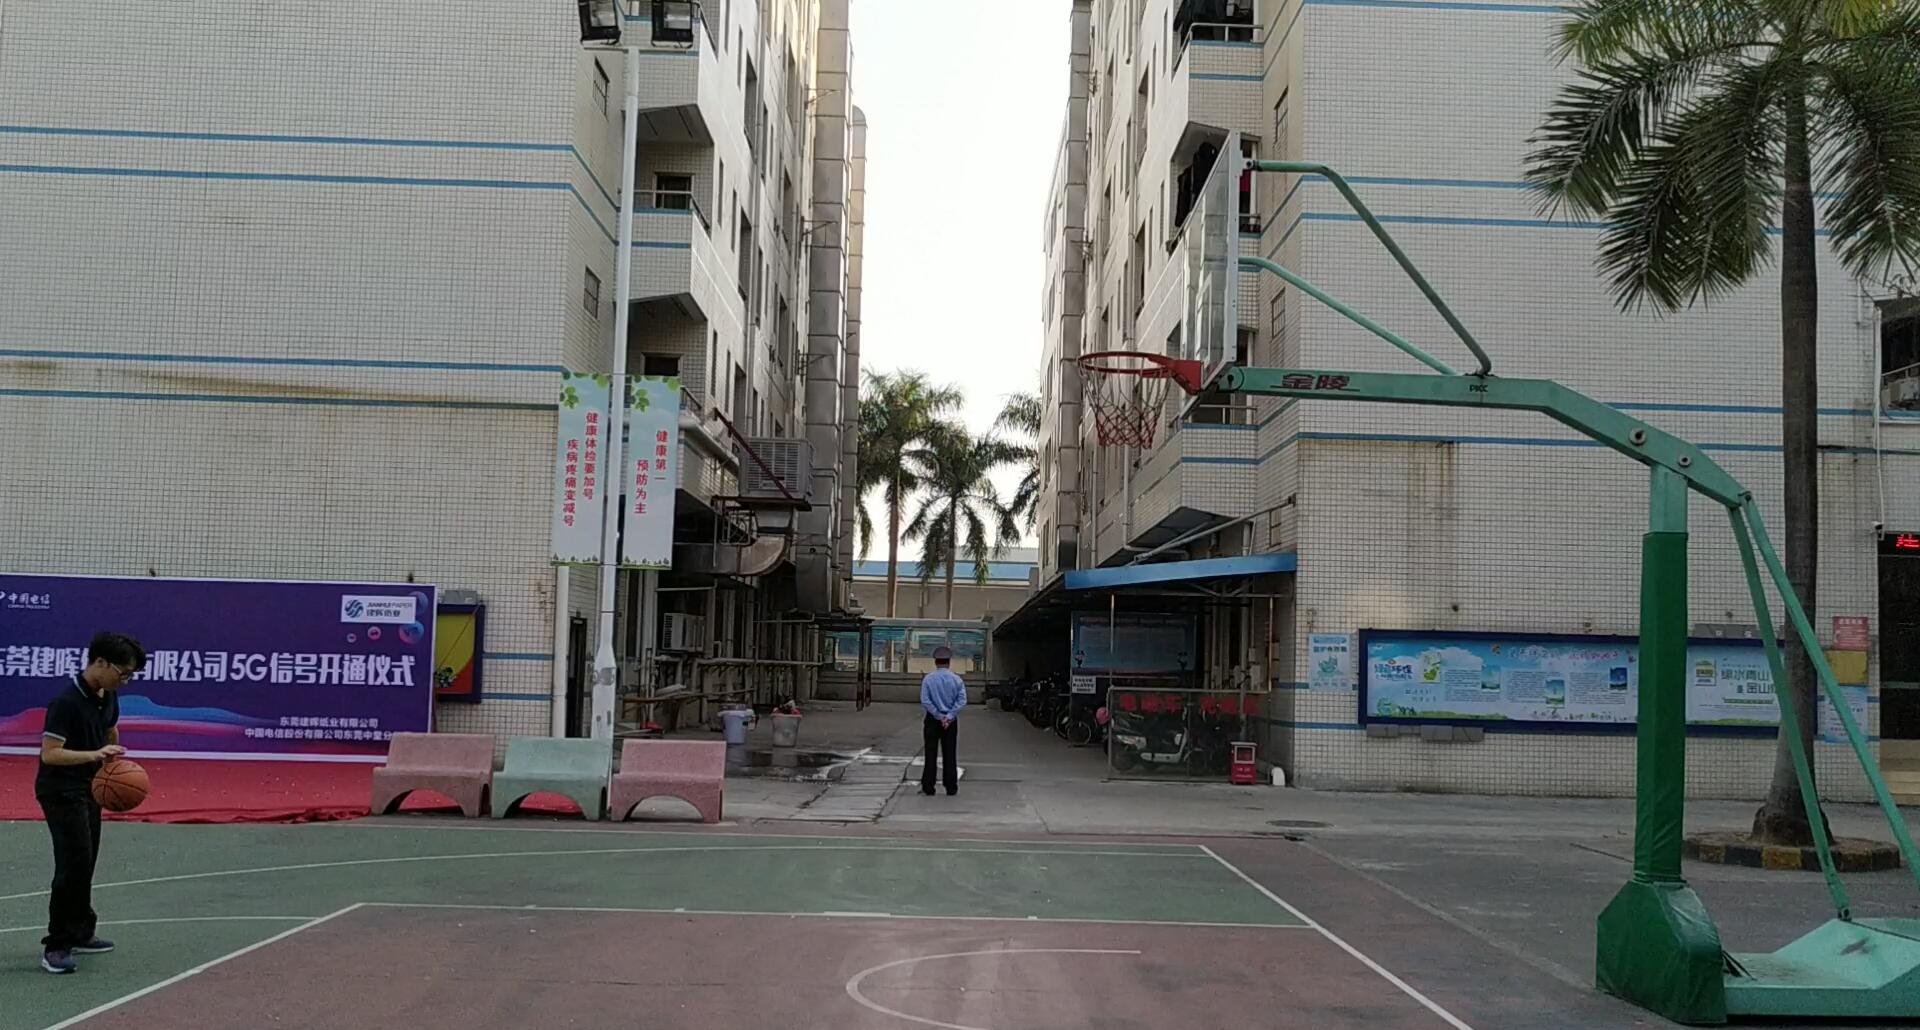basketball: (86, 751, 155, 820)
